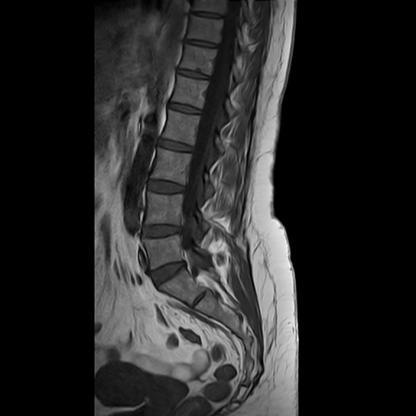Disc Bulgerotation: (146, 260, 195, 288), (139, 220, 187, 243)
